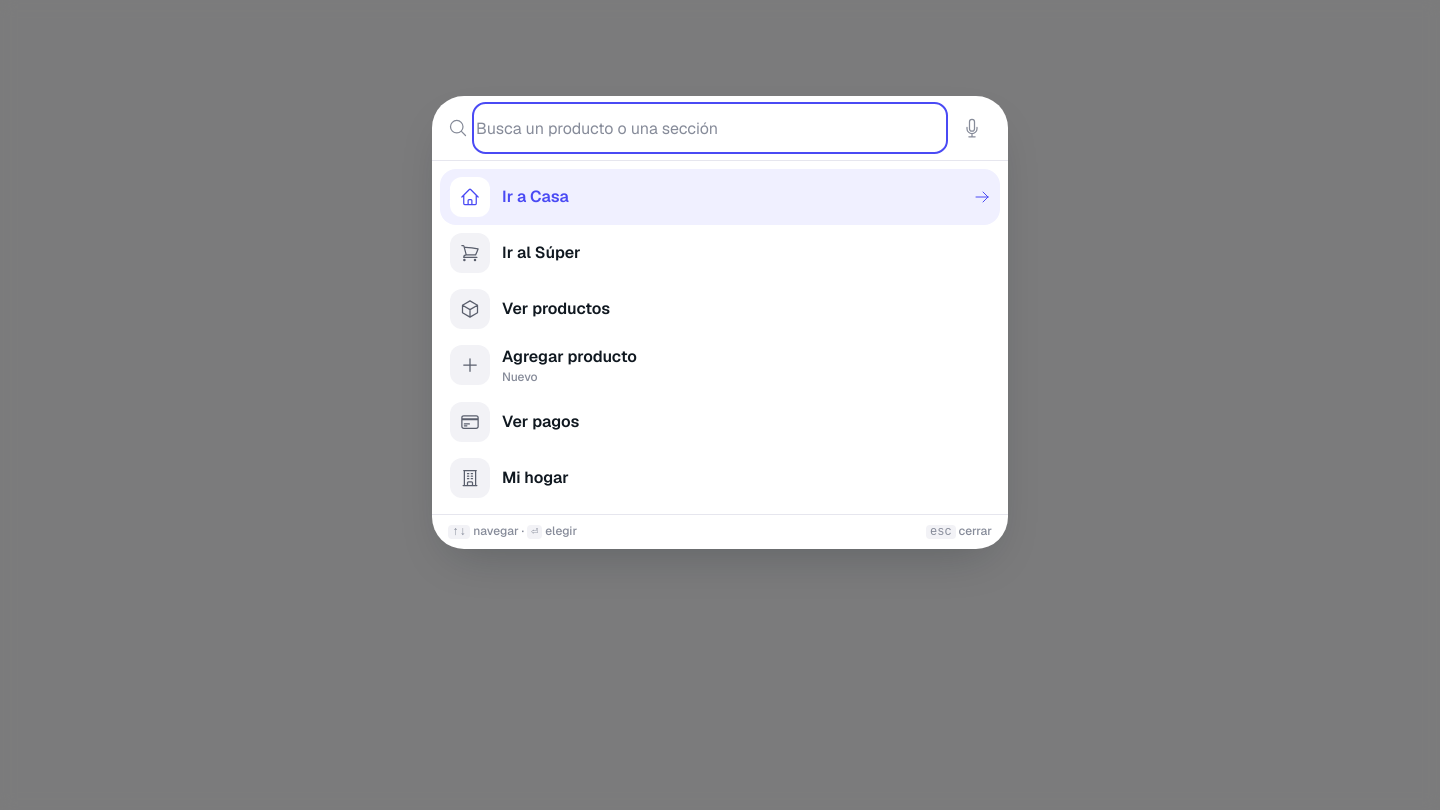
Scenario: CommandPalette — encuentra toda la despensa › encuentra un producto que va más allá del puesto 50
Type "remolachas" into the field with placeholder "Busca un producto o una sección" at (710,128), box [476, 106, 944, 150]
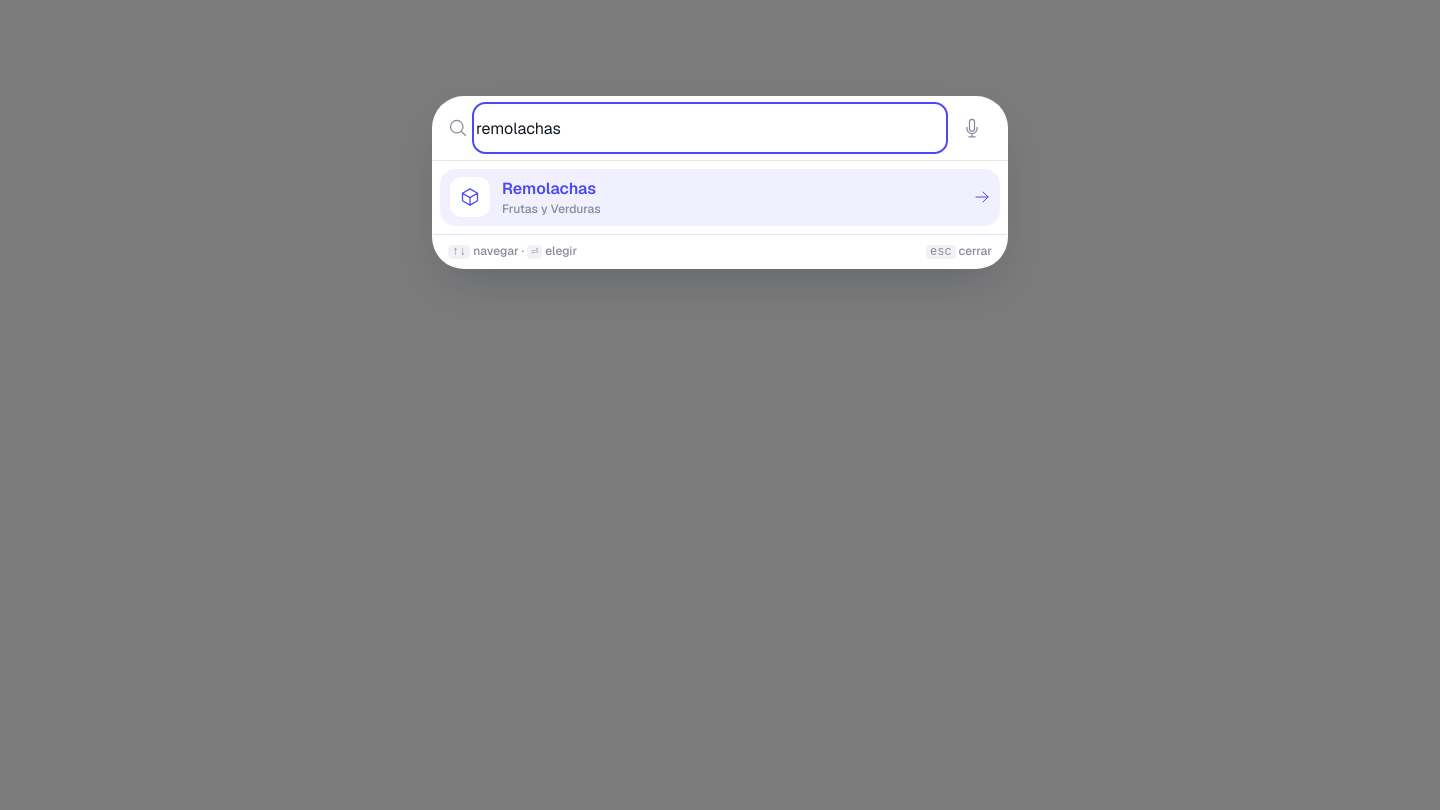
Expected: the text "Remolachas" is shown, [502, 178, 596, 199]
